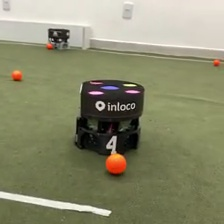ball: (104, 151, 127, 176), (11, 69, 23, 81), (212, 57, 220, 66), (45, 42, 52, 50)
goal: (1, 18, 91, 51)
robot: (71, 77, 147, 157), (47, 27, 71, 52)
